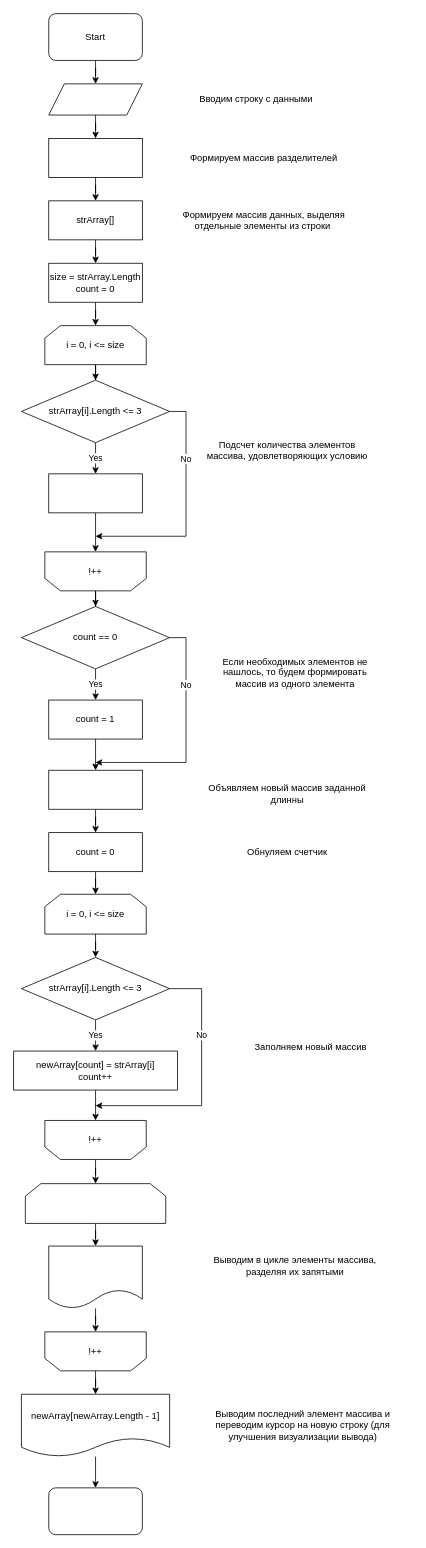
Image size: 426x1548. Some labels were removed from this diagram. The shapes that lost their labels are listed below. From the top down, each one's centre as x and y in pixels, then its label:
(95,99): input
(95,157): separators[]
(95,493): count++
(95,789): newArray[count]
(95,1203): i = 0, i <= newArray.Length - 1
(95,1276): newArray[i]
(95,1511): Finish
